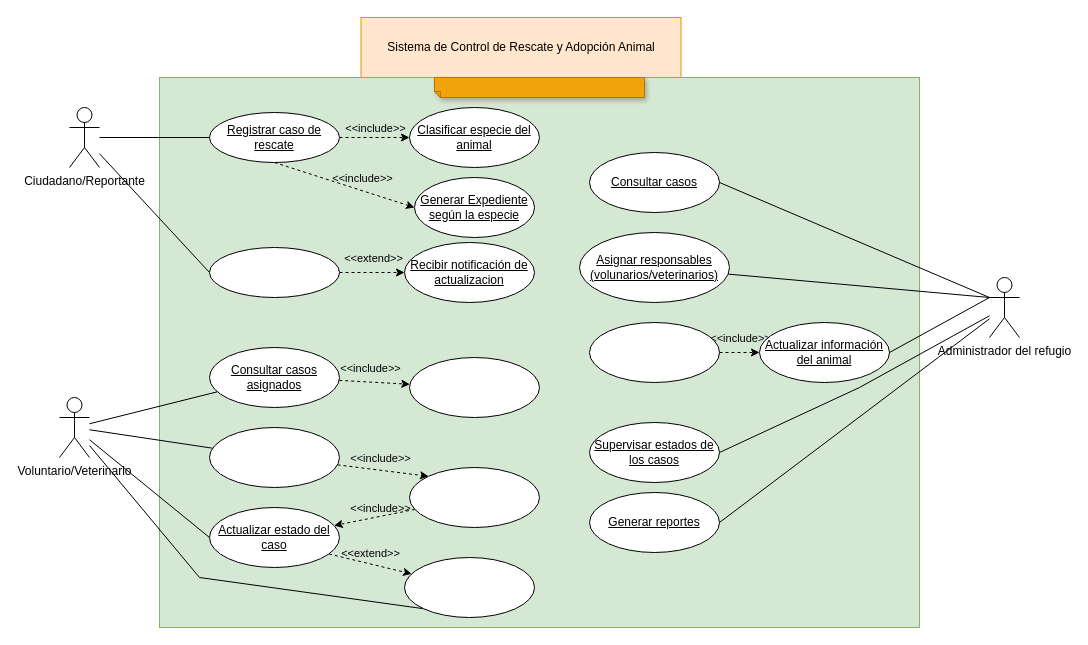
Some shapes in this 1088 by 645 pixel diagram are drawn without their labels. The shapes that lost their labels are listed below. From the top down, each one's centre as x and y in pixels, then its label:
At (x=540, y=88): "Sistema - Diagrama de caso de usos".
At (x=274, y=272): "Consultar estado del reporte".
At (x=654, y=352): "Gestionar expedientes".
At (x=474, y=387): "Ver información del animal".
At (x=274, y=457): "Registrar atención al anumal".
At (x=474, y=497): "Actualizar historial del caso".
At (x=469, y=587): "Recibir notificación de nuevos rescates".
